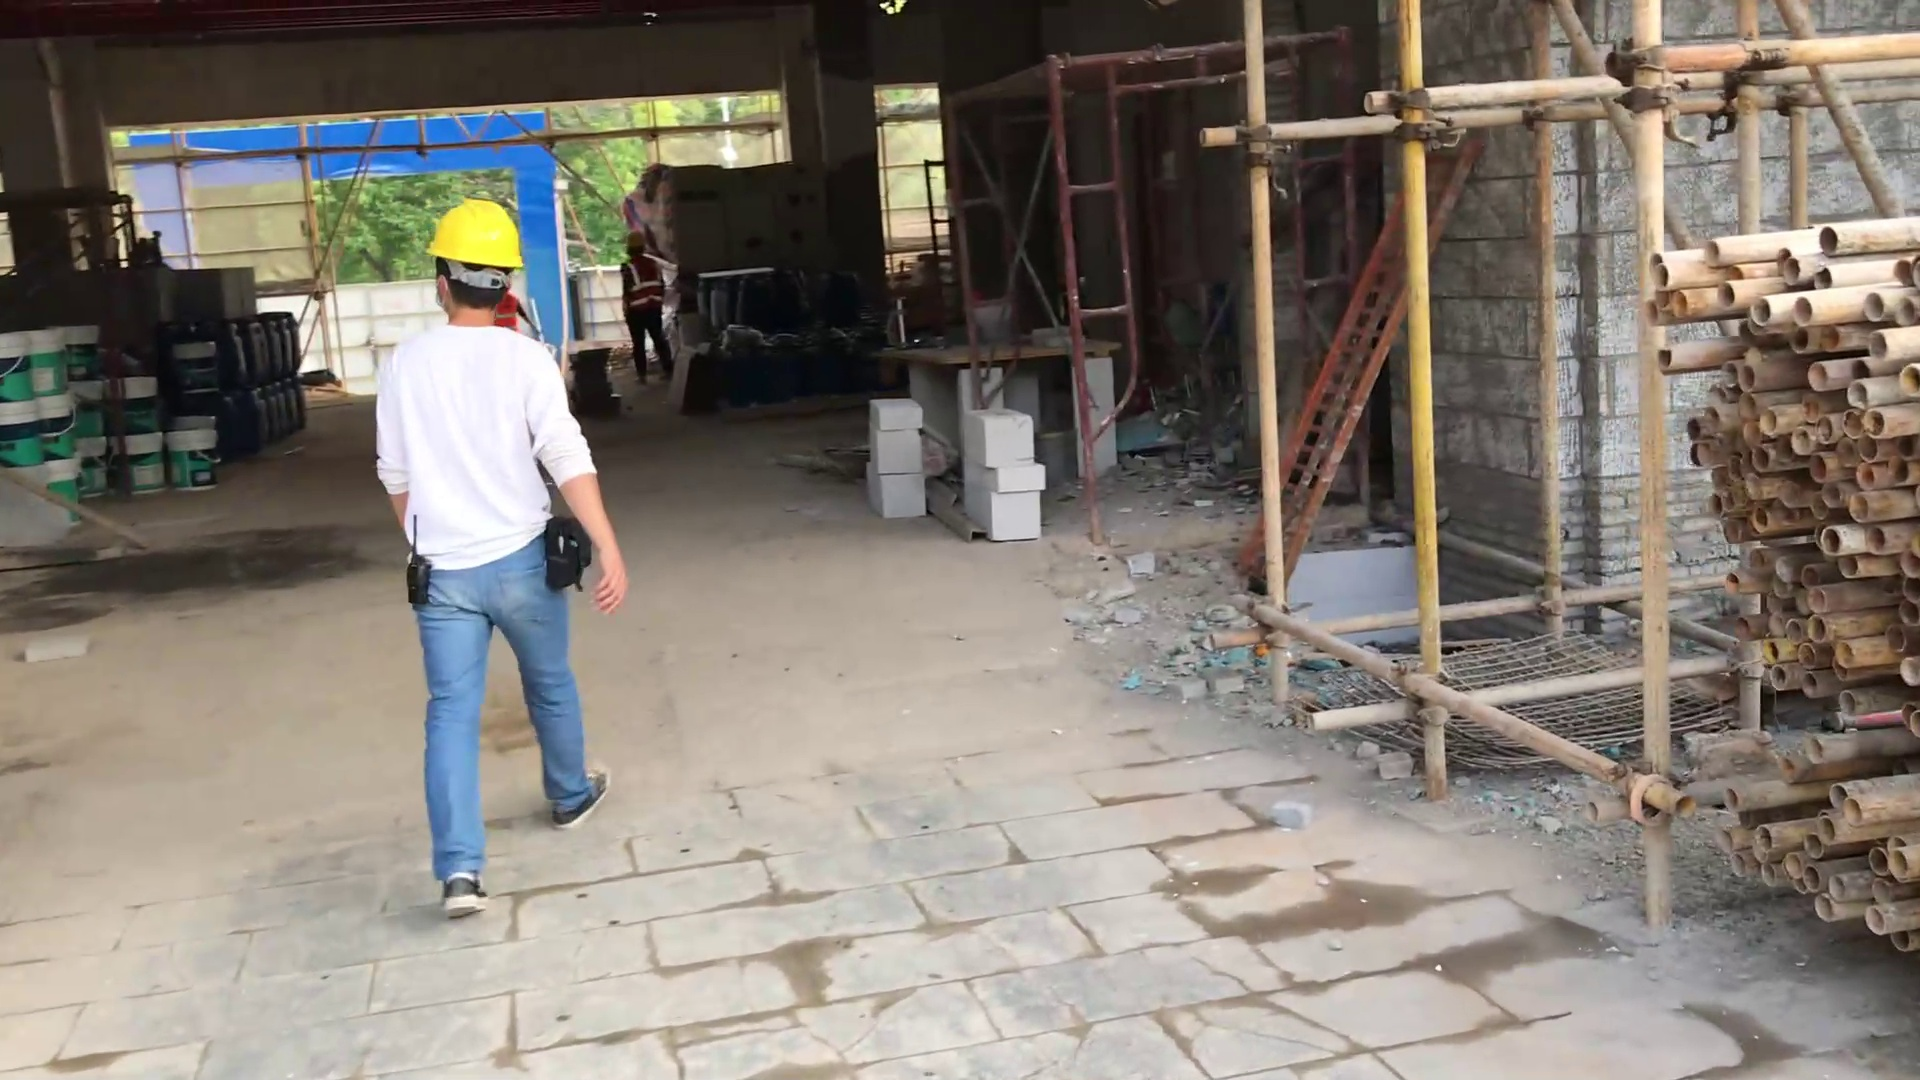helmet: (426, 189, 521, 280)
person: (370, 185, 664, 927), (622, 224, 681, 393)
vest: (623, 250, 670, 302)
